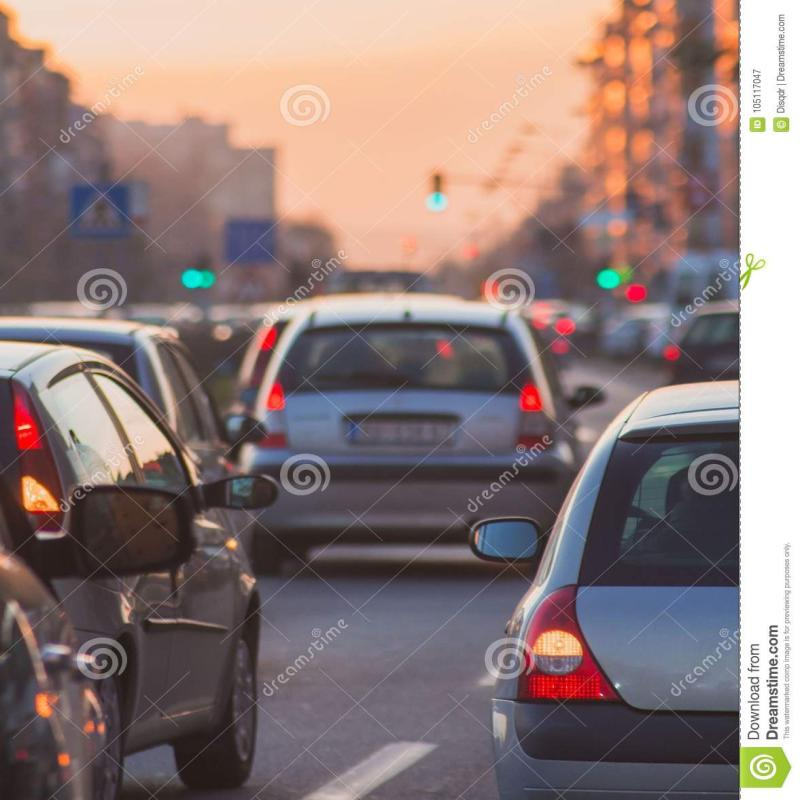car: (0, 320, 277, 774), (564, 375, 799, 800), (209, 282, 547, 545)
